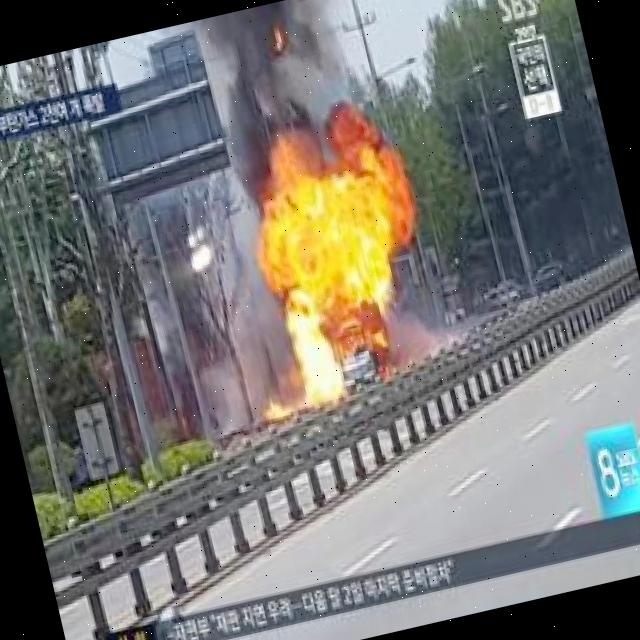fire: (242, 160, 441, 402)
